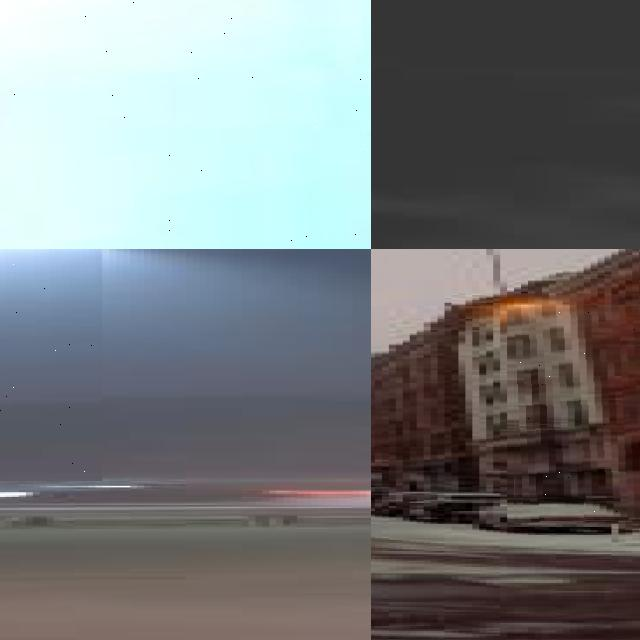street light: (0, 0, 371, 249), (507, 304, 640, 523), (0, 249, 102, 481)
